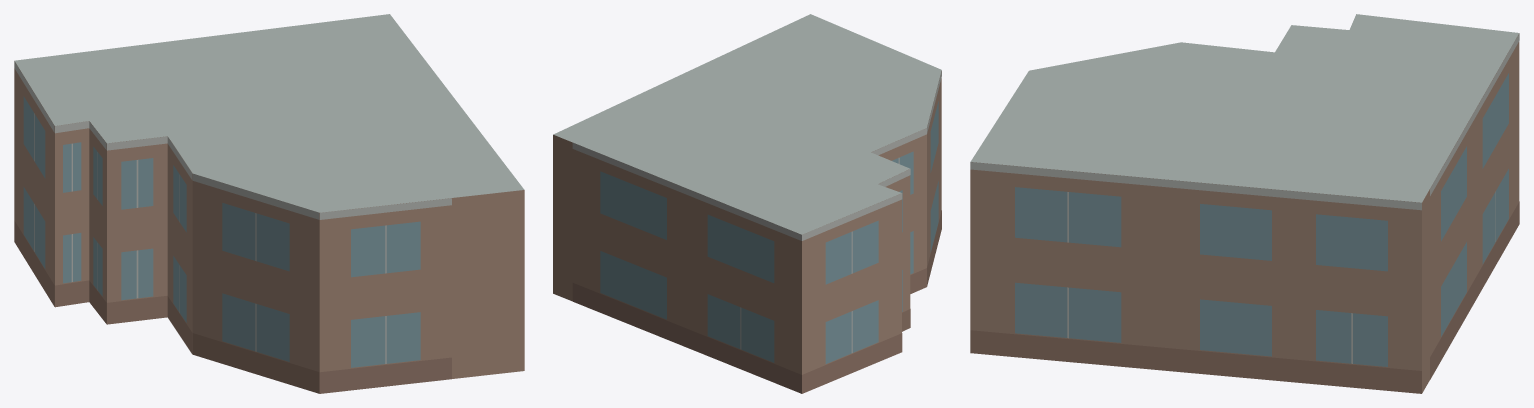
Rendered from survey-upis-33026490.glb.
3 views of the same model, side by side, from view 1: azimuth 30°, elevation 25°; view 2: azimuth 150°, elevation 25°; view 3: azimuth 270°, elevation 25° (orthographic). The views are drawn at different scales.
Parts seen in each view (by area): view 1: survey-upis-33026490.tmp; view 2: survey-upis-33026490.tmp; view 3: survey-upis-33026490.tmp.
Boxes of the visible parts, x1,y1,x2,y2 form: survey-upis-33026490.tmp: [14, 14, 524, 393]; survey-upis-33026490.tmp: [553, 14, 941, 393]; survey-upis-33026490.tmp: [970, 14, 1519, 393].
Size of the model in its own units: 12.92 by 6.1 by 15.88.
